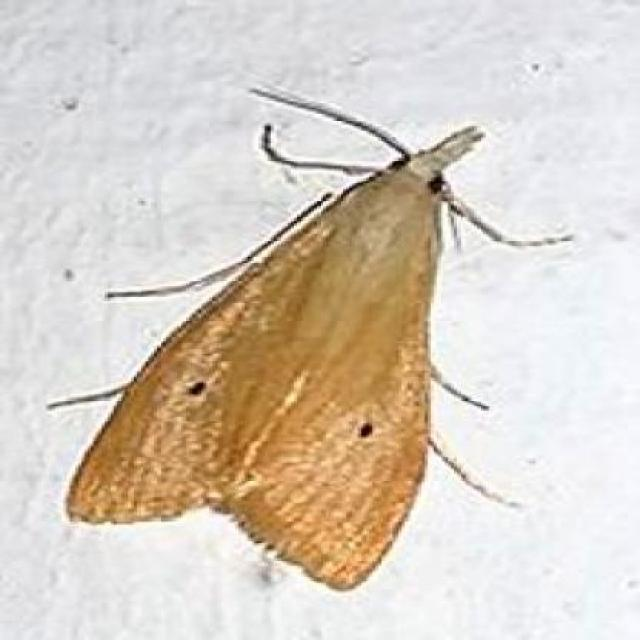stem-borer: (40, 74, 582, 595)
